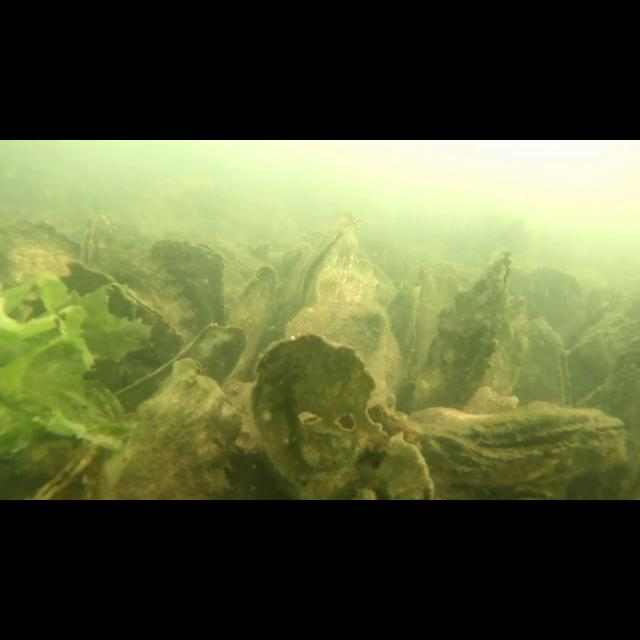Oyster-Closed: (250, 330, 432, 500), (101, 358, 243, 500), (61, 258, 182, 394), (112, 322, 248, 414), (287, 300, 397, 408), (0, 218, 82, 316), (160, 238, 228, 326), (227, 264, 280, 366), (490, 294, 530, 402), (526, 318, 572, 406)
Oyster-Open: (407, 402, 629, 490), (414, 244, 512, 412), (296, 212, 360, 314), (36, 444, 100, 501), (80, 212, 116, 268)
